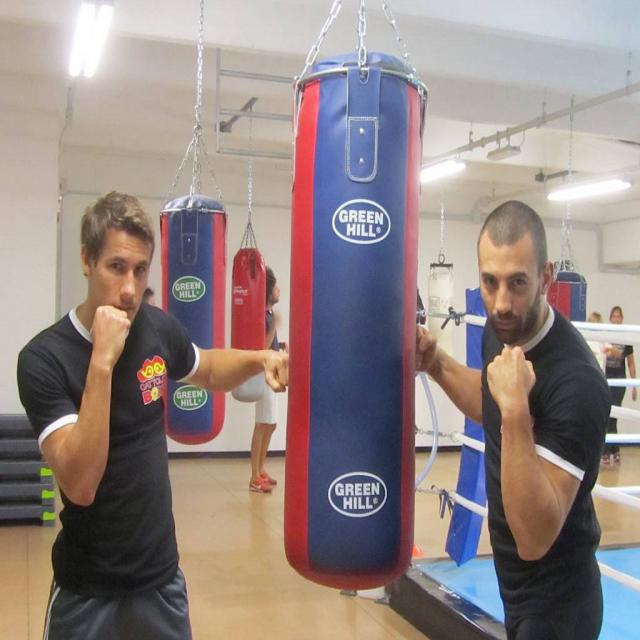Punching Bag: (274, 40, 435, 609)
